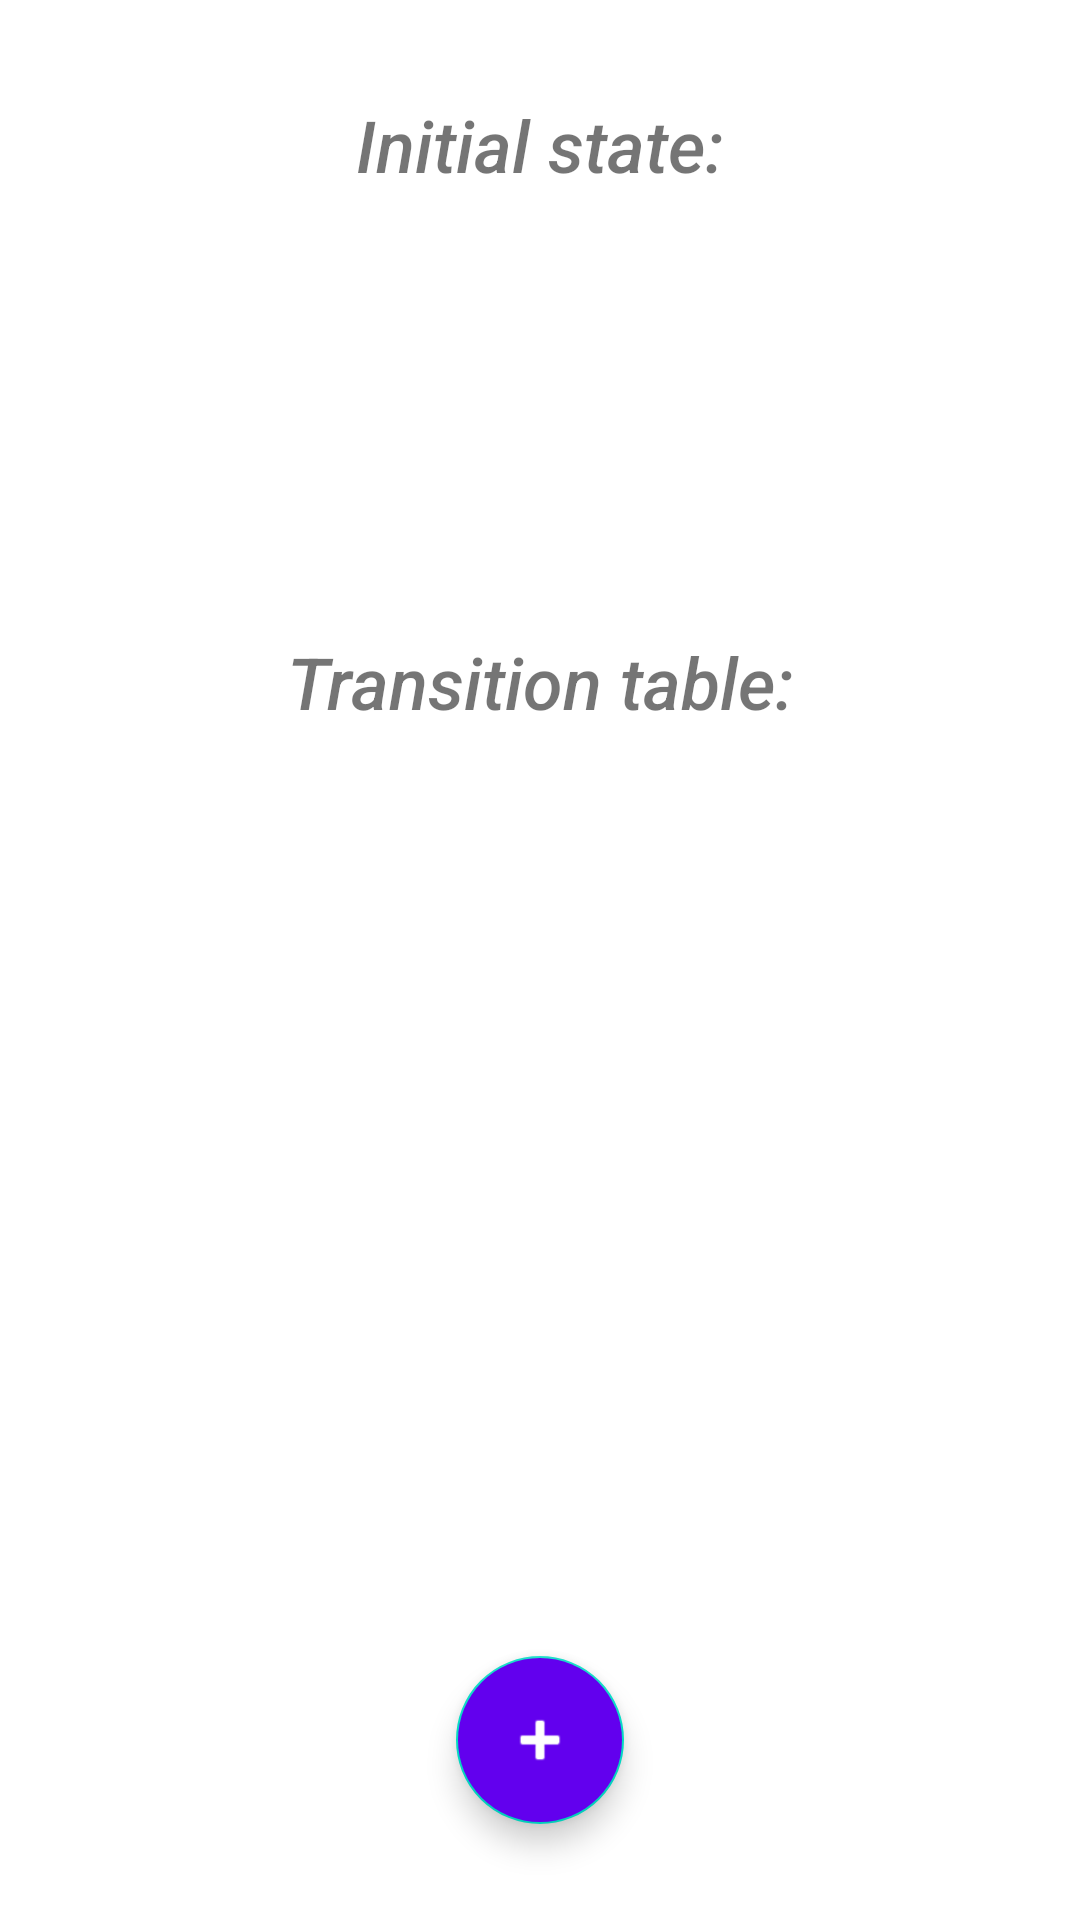

Where to tap for icons on this 1080w x 1920h app screen, as (x=x, y=y):
add: (x=540, y=1740)
